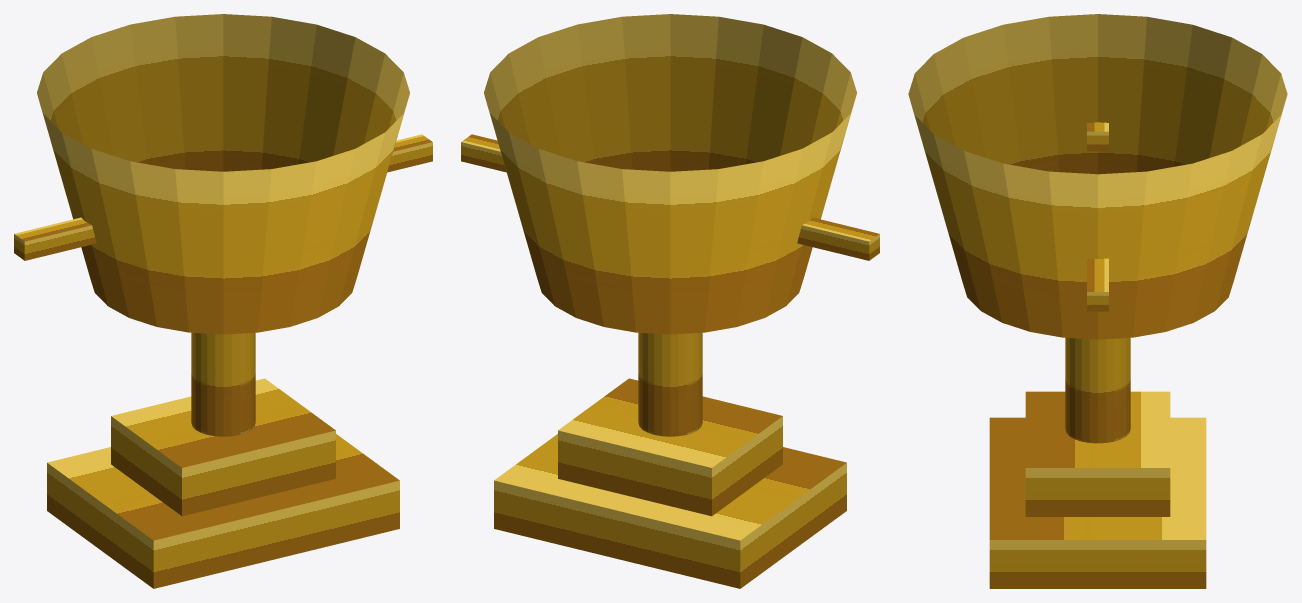
Rendered from Trophy.obj.
The picture shows the model from 3 angles, left to right: view 1: azimuth 30°, elevation 25°; view 2: azimuth 150°, elevation 25°; view 3: azimuth 270°, elevation 25°; orthographic projection.
Visible parts, largest first — view 1: Trophy; view 2: Trophy; view 3: Trophy.
Part boxes in pixels (<box>): Trophy: <box>14,14,432,588</box>; Trophy: <box>461,14,879,588</box>; Trophy: <box>908,14,1287,588</box>.
Size of the model in its own units: 2.65 by 2.65 by 2.1.
1 material, 1 textured.
